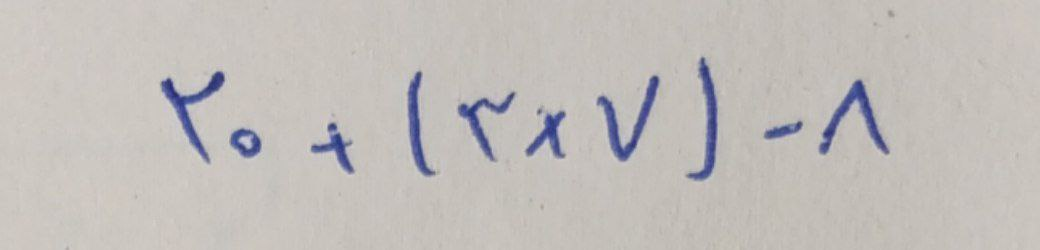character: (812, 69, 893, 164), (592, 68, 664, 164), (157, 68, 223, 166), (682, 52, 721, 183), (456, 88, 519, 167), (407, 69, 440, 181), (523, 103, 569, 166), (310, 124, 360, 175), (758, 117, 805, 143), (229, 128, 262, 160)
